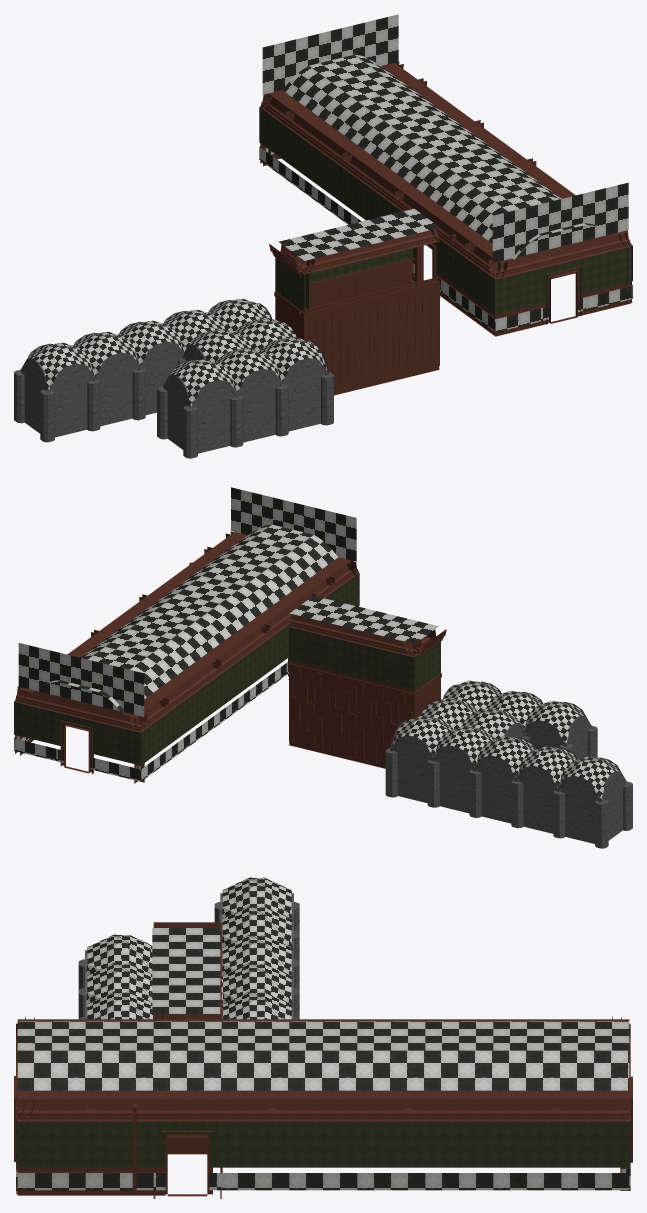
File: Room_6.fbx
3 views of the same model, one above another, from view 1: azimuth 30°, elevation 25°; view 2: azimuth 150°, elevation 25°; view 3: azimuth 270°, elevation 25° (orthographic). The views are drawn at different scales.
Parts seen in each view (by area): view 1: Plane.028; view 2: Plane.028; view 3: Plane.028.
Boxes of the visible parts, x1,y1,x2,y2 form: Plane.028: [14, 14, 632, 458]; Plane.028: [14, 487, 632, 848]; Plane.028: [14, 877, 632, 1198].
Bounding box in the file's own units: 2265 × 801 × 1822.
